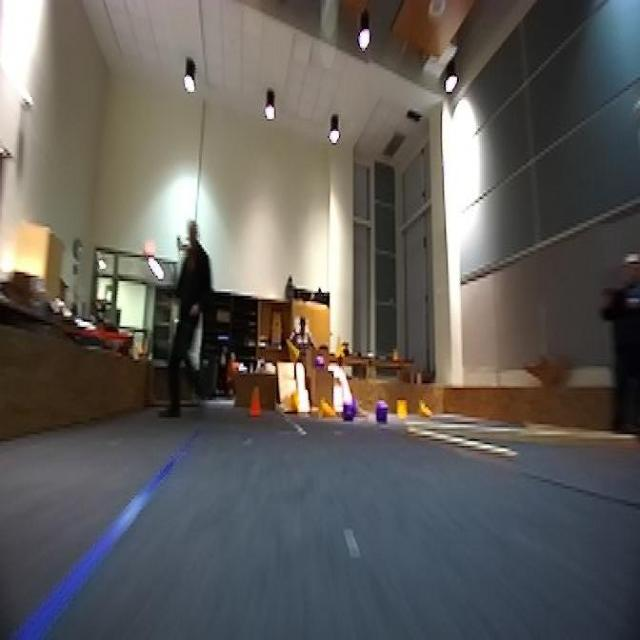frc_cone: (316, 400, 336, 426), (395, 398, 408, 428), (417, 402, 434, 424), (288, 390, 302, 415), (333, 336, 346, 362), (290, 340, 304, 362)
frc_cube: (374, 400, 389, 427), (312, 349, 327, 371), (341, 400, 354, 424)
